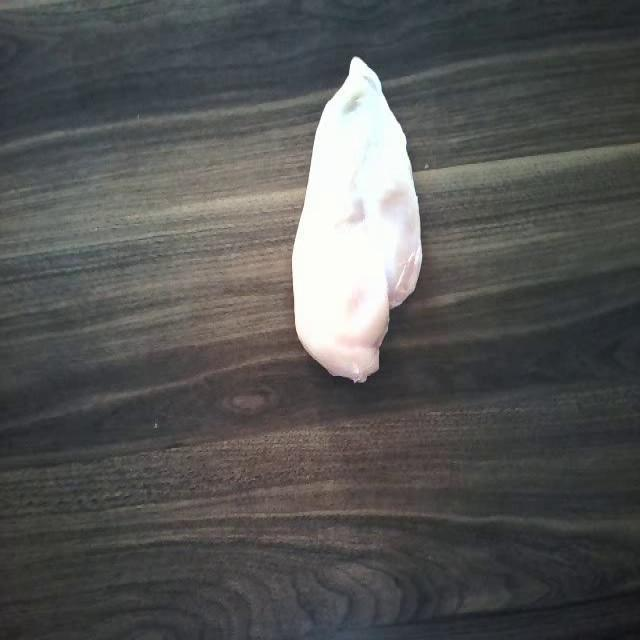breast: (296, 52, 424, 393)
